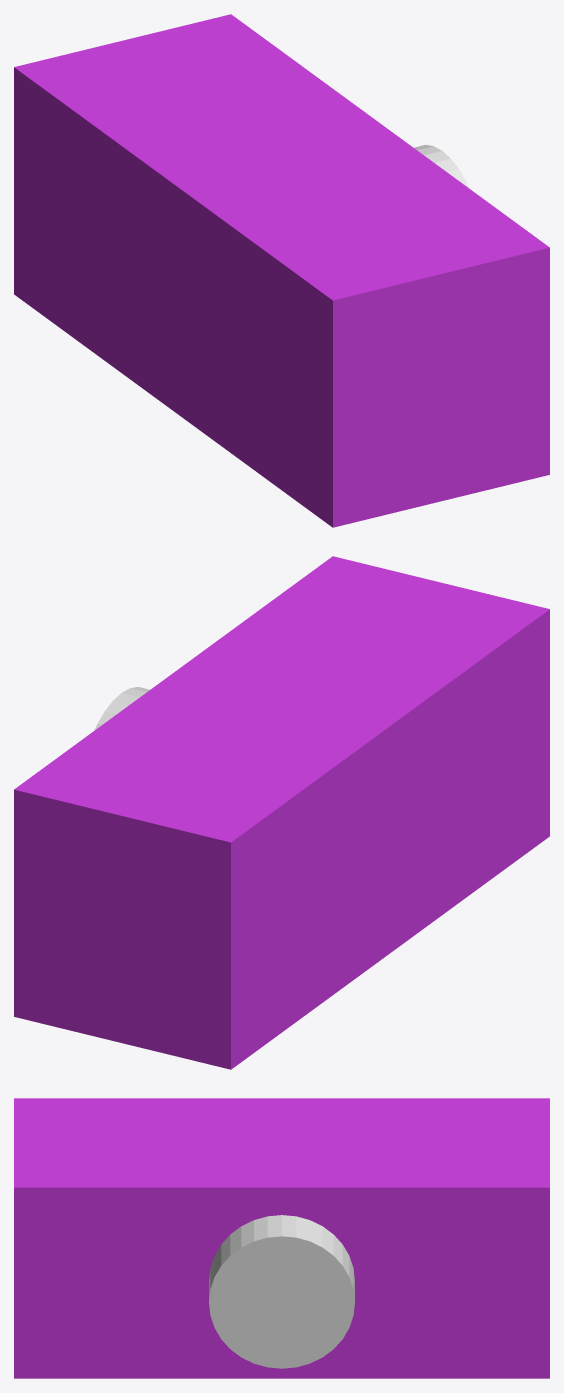
File: camera_rgb.dae
3 views of the same model, one above another, from view 1: azimuth 30°, elevation 25°; view 2: azimuth 150°, elevation 25°; view 3: azimuth 270°, elevation 25° (orthographic). The views are drawn at different scales.
Parts seen in each view (by area): view 1: Cube; view 2: Cube; view 3: Cube.
Boxes of the visible parts, box(x1,y1,x2,y2) form: Cube: box(14, 14, 549, 527); Cube: box(14, 556, 549, 1069); Cube: box(14, 1098, 549, 1378).
Bounding box in the file's own units: 0.0167 × 0.0343 × 0.0135.
